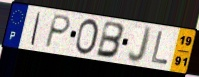B: (94, 19, 126, 60)
I: (29, 11, 42, 47)
J: (126, 25, 154, 65)
L: (149, 30, 170, 67)
O: (73, 18, 100, 57)
P: (42, 13, 72, 50)
